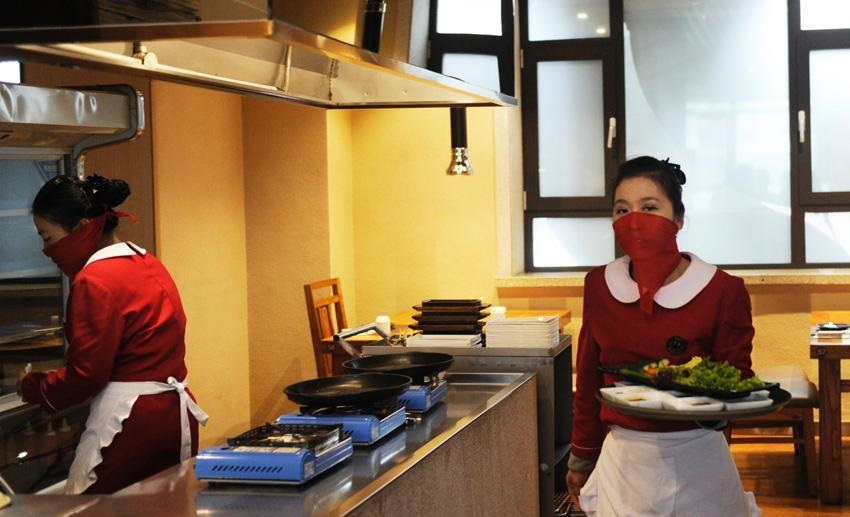face_mask: (612, 179, 673, 254), (32, 211, 73, 275)
